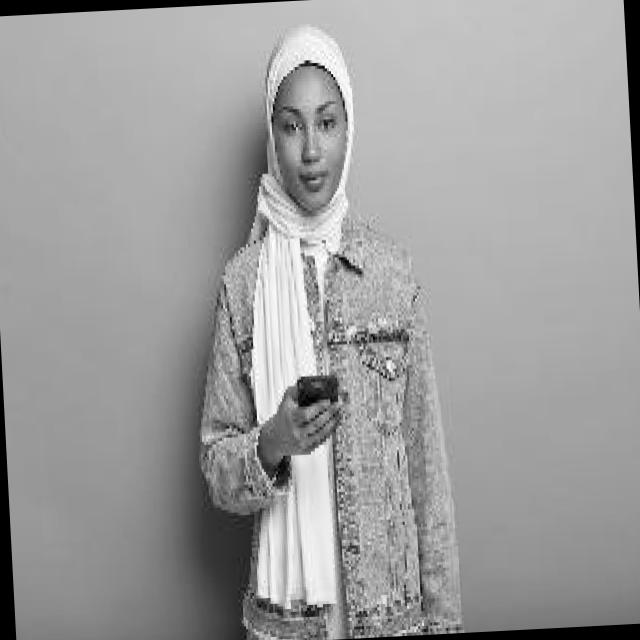Focused: (268, 75, 356, 208)
